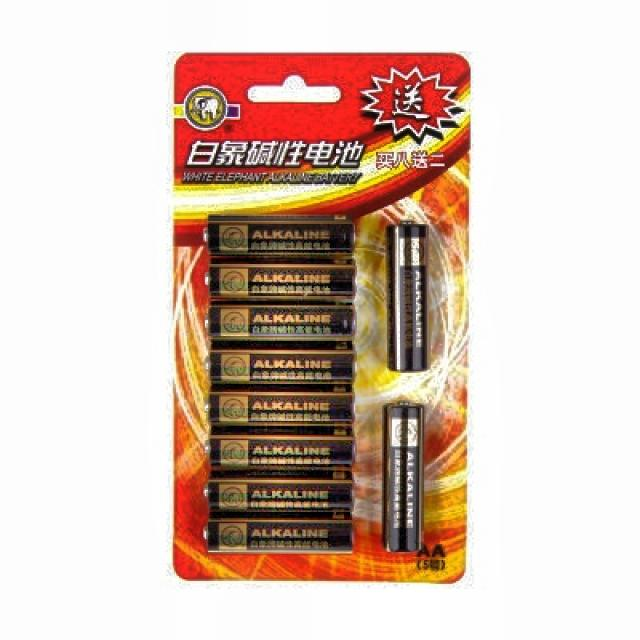Non-Valuable Waste - Batteries: (209, 339, 352, 385), (388, 222, 428, 371), (384, 404, 424, 551), (209, 216, 352, 255), (209, 264, 353, 297), (209, 305, 352, 338), (208, 520, 351, 551), (209, 482, 352, 513), (209, 436, 352, 467), (209, 394, 352, 424)
